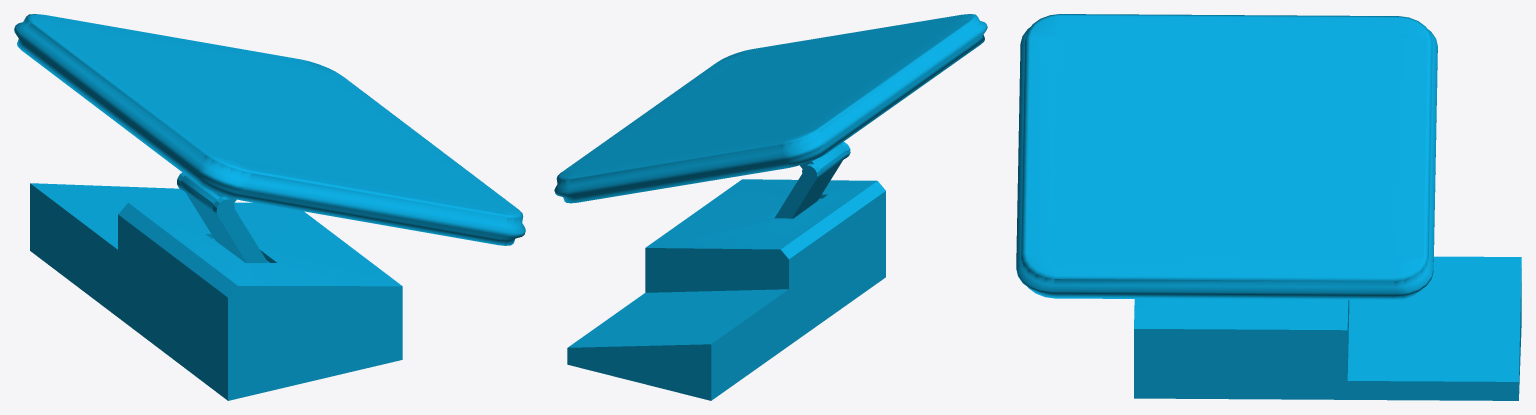
The model's file is Cash_Register_Lod0.fbx.
3 views of the same model, side by side, from view 1: azimuth 30°, elevation 25°; view 2: azimuth 150°, elevation 25°; view 3: azimuth 270°, elevation 25° (orthographic). The views are drawn at different scales.
Visible parts, largest first — view 1: Cash_Register_Lod0; view 2: Cash_Register_Lod0; view 3: Cash_Register_Lod0.
Boxes of the visible parts, x1=… form: Cash_Register_Lod0: x1=14, y1=14, x2=525, y2=400; Cash_Register_Lod0: x1=554, y1=14, x2=987, y2=400; Cash_Register_Lod0: x1=1016, y1=14, x2=1521, y2=400.
Bounding box in the file's own units: 31.51 × 26.91 × 44.77.
